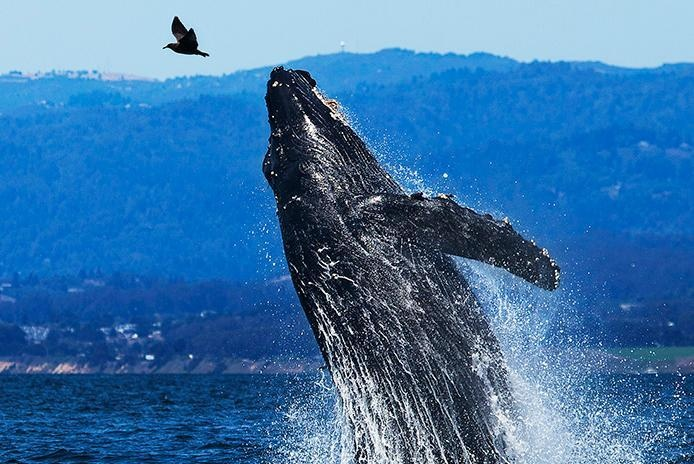bird: (160, 15, 220, 62)
fish: (240, 60, 571, 464)
